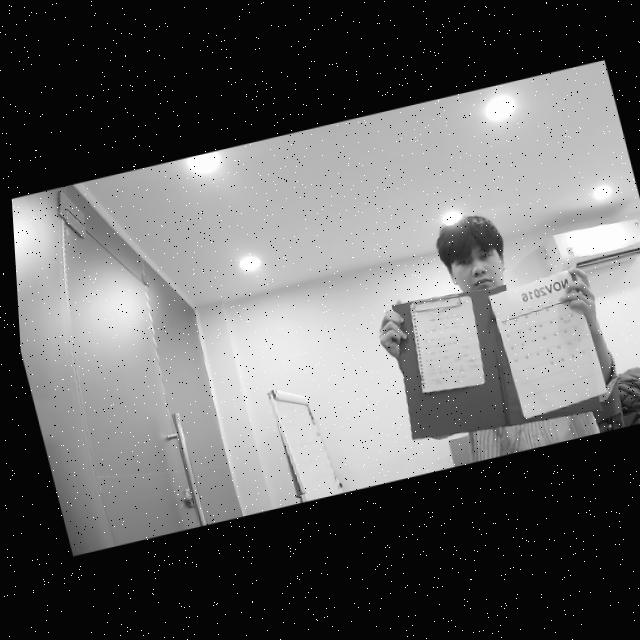document: (489, 270, 607, 418), (410, 295, 485, 392)
face: (417, 208, 514, 303)
